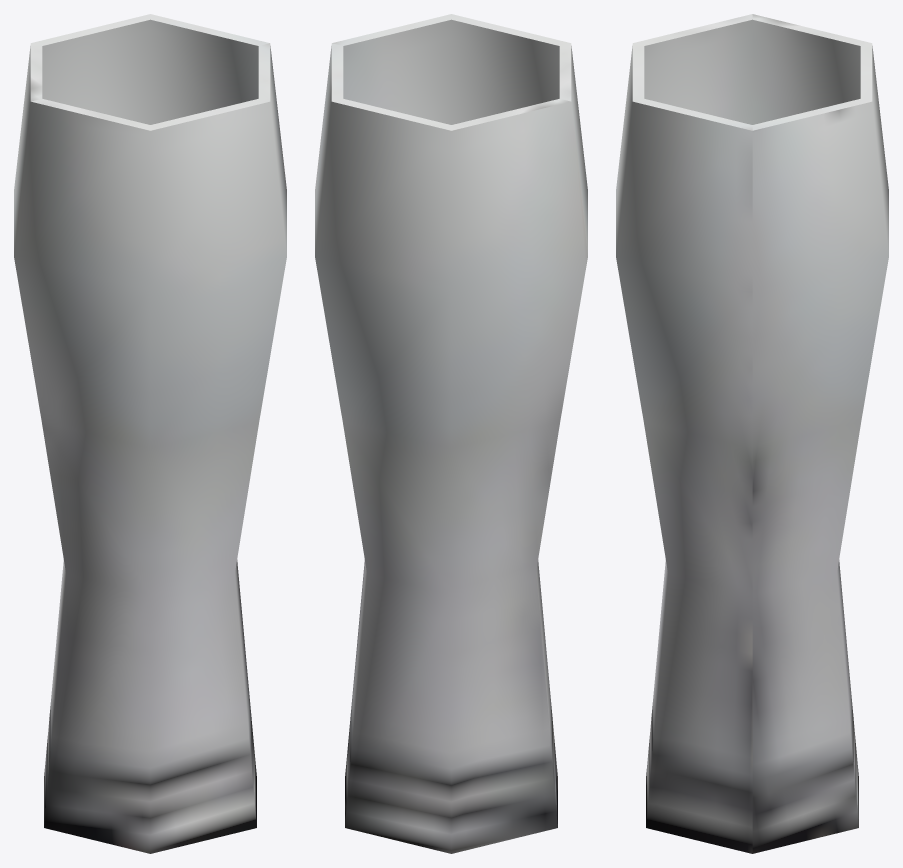
Rendered from BeerGlassV1.fbx.
3 views of the same model, side by side, from view 1: azimuth 30°, elevation 25°; view 2: azimuth 150°, elevation 25°; view 3: azimuth 270°, elevation 25° (orthographic).
Parts seen in each view (by area): view 1: Beer&Wine.003; view 2: Beer&Wine.003; view 3: Beer&Wine.003.
Boxes of the visible parts, left/top/right/bottom form: Beer&Wine.003: left=14, top=14, right=286, bottom=853; Beer&Wine.003: left=315, top=14, right=587, bottom=853; Beer&Wine.003: left=616, top=14, right=888, bottom=853.
Size of the model in its own units: 0.1076 by 0.2749 by 0.0932.
